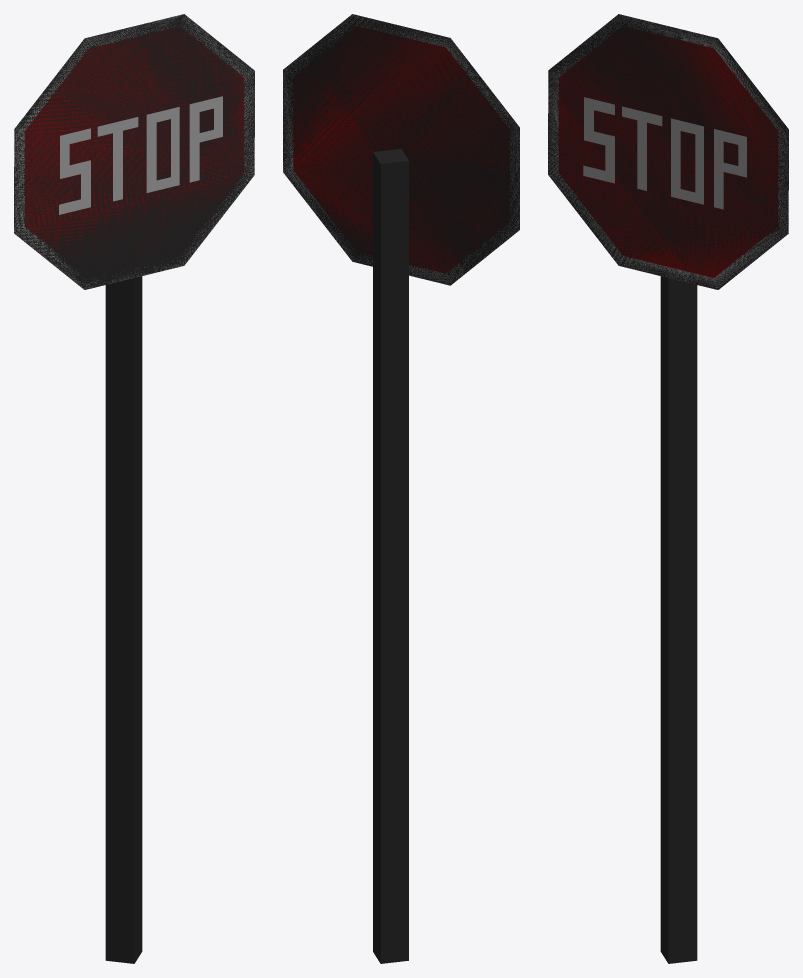
The model's file is stopsign.obj.
The picture shows the model from 3 angles, left to right: view 1: azimuth 30°, elevation 25°; view 2: azimuth 150°, elevation 25°; view 3: azimuth 330°, elevation 25°; orthographic projection.
Visible parts, largest first — view 1: Cylinder; view 2: Cylinder; view 3: Cylinder.
Boxes of the visible parts, left/top/right/bottom form: Cylinder: left=14, top=14, right=254, bottom=963; Cylinder: left=283, top=14, right=519, bottom=963; Cylinder: left=548, top=14, right=788, bottom=963.
Size of the model in its own units: 0.7822 by 2.91 by 0.1467.
